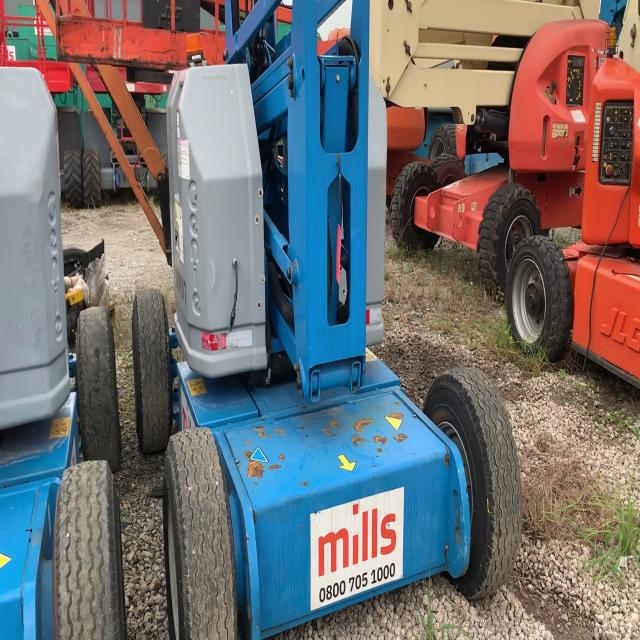Adesivos: (309, 484, 405, 614)
